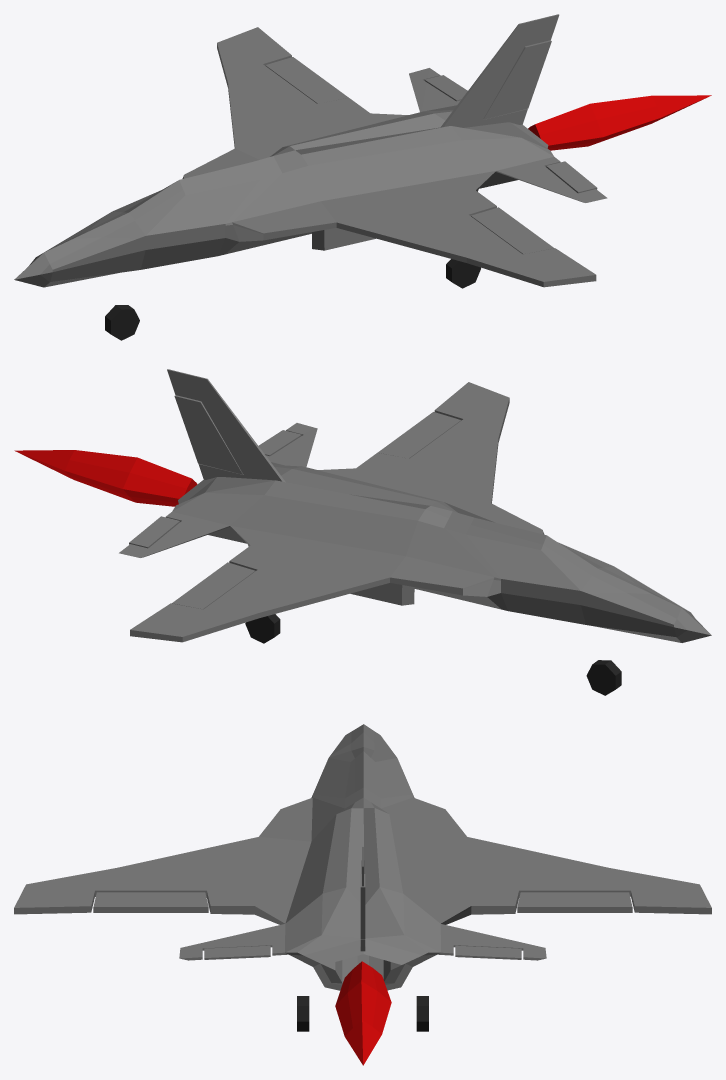
The model's file is jetFighter.fbx.
3 views of the same model, one above another, from view 1: azimuth 30°, elevation 25°; view 2: azimuth 150°, elevation 25°; view 3: azimuth 270°, elevation 25° (orthographic). The views are drawn at different scales.
Parts seen in each view (by area): view 1: plane_1, flame, rudder, rudderControl, aeriL, aeriR, Nwheel, finL, Lwheel, finR; view 2: plane_1, flame, rudder, rudderControl, aeriR, aeriL, Nwheel, finR, Rwheel, finL; view 3: plane_1, flame, aeriR, aeriL, finL, finR.
Part boxes in pixels (left/top/right/bottom): plane_1: left=14, top=27, right=607, bottom=287; flame: left=528, top=95, right=711, bottom=150; rudder: left=441, top=14, right=559, bottom=127; rudderControl: left=483, top=40, right=551, bottom=119; aeriL: left=471, top=207, right=554, bottom=254; aeriR: left=265, top=57, right=348, bottom=103; Nwheel: left=105, top=305, right=139, bottom=340; finL: left=546, top=161, right=597, bottom=193; Lwheel: left=446, top=259, right=480, bottom=288; finR: left=424, top=75, right=467, bottom=101; plane_1: left=119, top=382, right=711, bottom=642; flame: left=14, top=450, right=197, bottom=506; rudder: left=167, top=369, right=285, bottom=482; rudderControl: left=174, top=395, right=243, bottom=474; aeriR: left=172, top=562, right=255, bottom=609; aeriL: left=377, top=412, right=461, bottom=458; Nwheel: left=586, top=660, right=621, bottom=695; finR: left=129, top=516, right=179, bottom=548; Rwheel: left=245, top=614, right=280, bottom=643; finL: left=258, top=430, right=301, bottom=456; plane_1: left=14, top=724, right=711, bottom=990; flame: left=335, top=961, right=391, bottom=1065; aeriR: left=517, top=892, right=632, bottom=912; aeriL: left=93, top=892, right=208, bottom=912; finL: left=204, top=945, right=270, bottom=959; finR: left=455, top=945, right=521, bottom=959.
Bounding box in the file's own units: 695 × 209 × 584.
